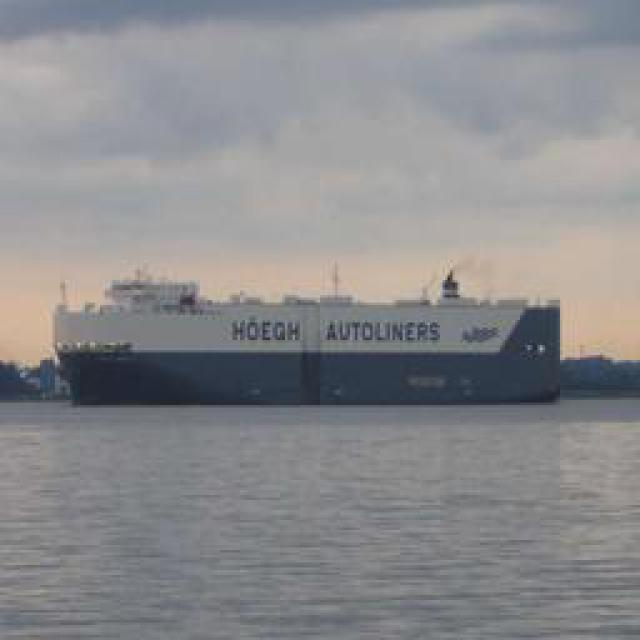Ship: (55, 272, 580, 410)
